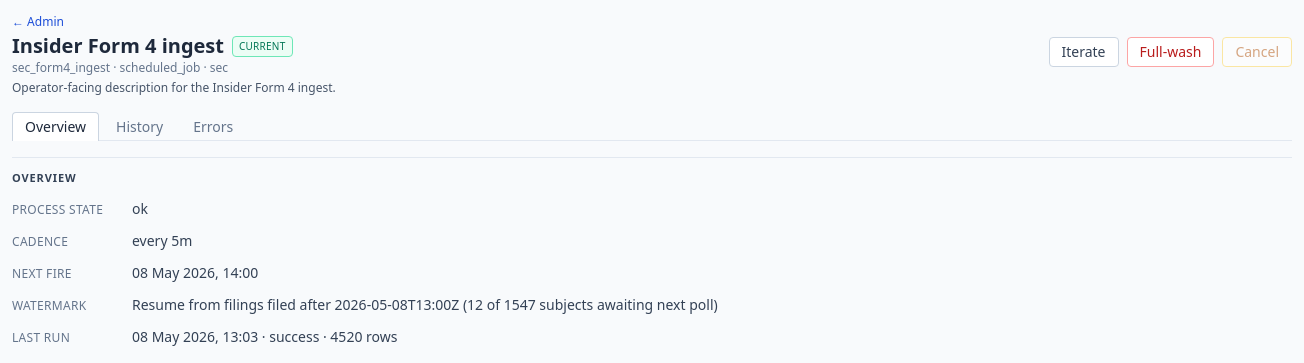
Test: ProcessDetailPage › History tab distinguishes a degraded run that errored from a clean one
Click the tab "History": (140, 126) [103, 112, 176, 141]
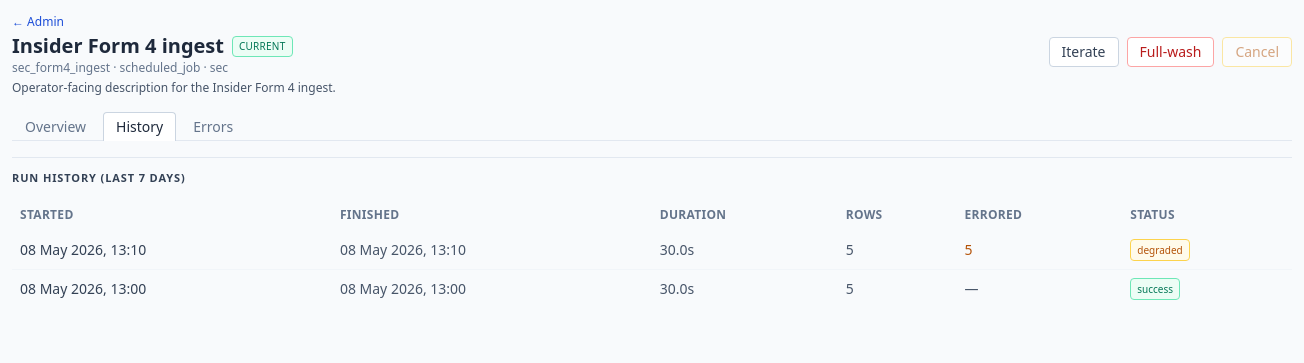
Check: the number of cells with test id "run-rows-errored" is 2, box [956, 230, 1122, 269]; [956, 269, 1122, 308]
Check: the elements with test id "run-rows-errored" read "5", "—", in this order, box [956, 230, 1122, 269]; [956, 269, 1122, 308]
Check: the elements with test id "run-status" read "degraded", "success", in this order, box [1130, 238, 1190, 260]; [1130, 278, 1180, 300]
